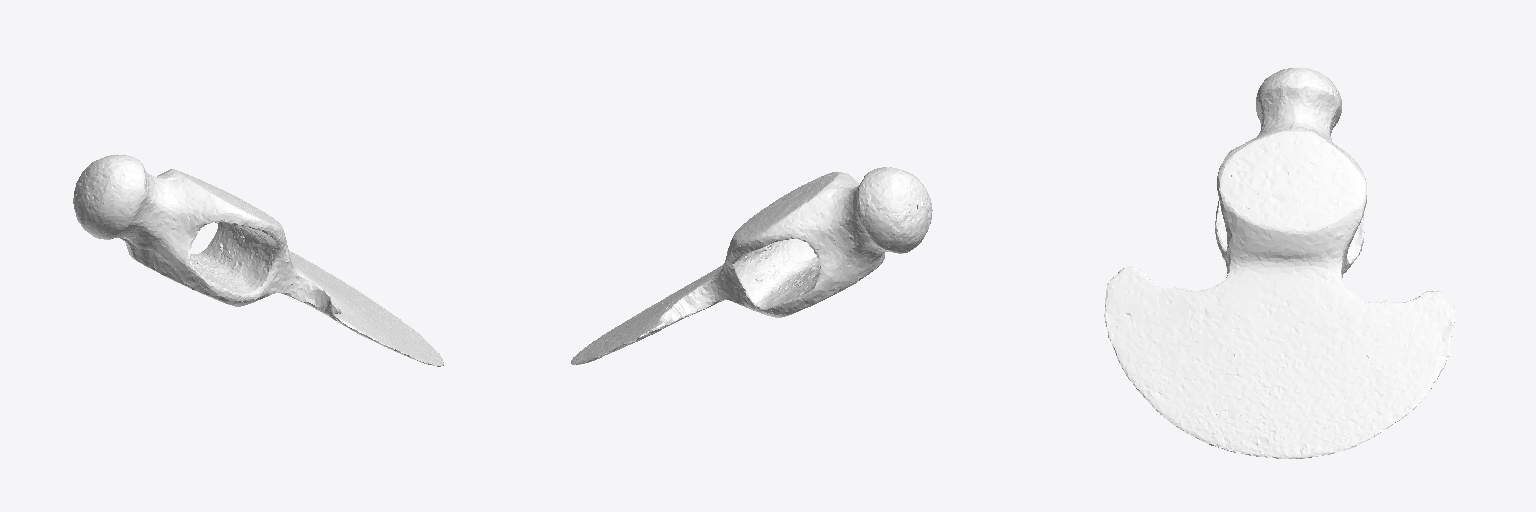
Rendered from Sony_Axt_002_Foto_30K_T8k.obj.
3 renders of one model, left to right at view 1: azimuth 30°, elevation 25°; view 2: azimuth 150°, elevation 25°; view 3: azimuth 270°, elevation 25°, orthographic.
Visible parts, largest first — view 1: default; view 2: default; view 3: default.
Boxes of the visible parts, <box> form: default: <box>73,155,443,366</box>; default: <box>571,167,932,364</box>; default: <box>1104,68,1455,458</box>.
Bounding box in the file's own units: 28.93 × 20.42 × 26.49.